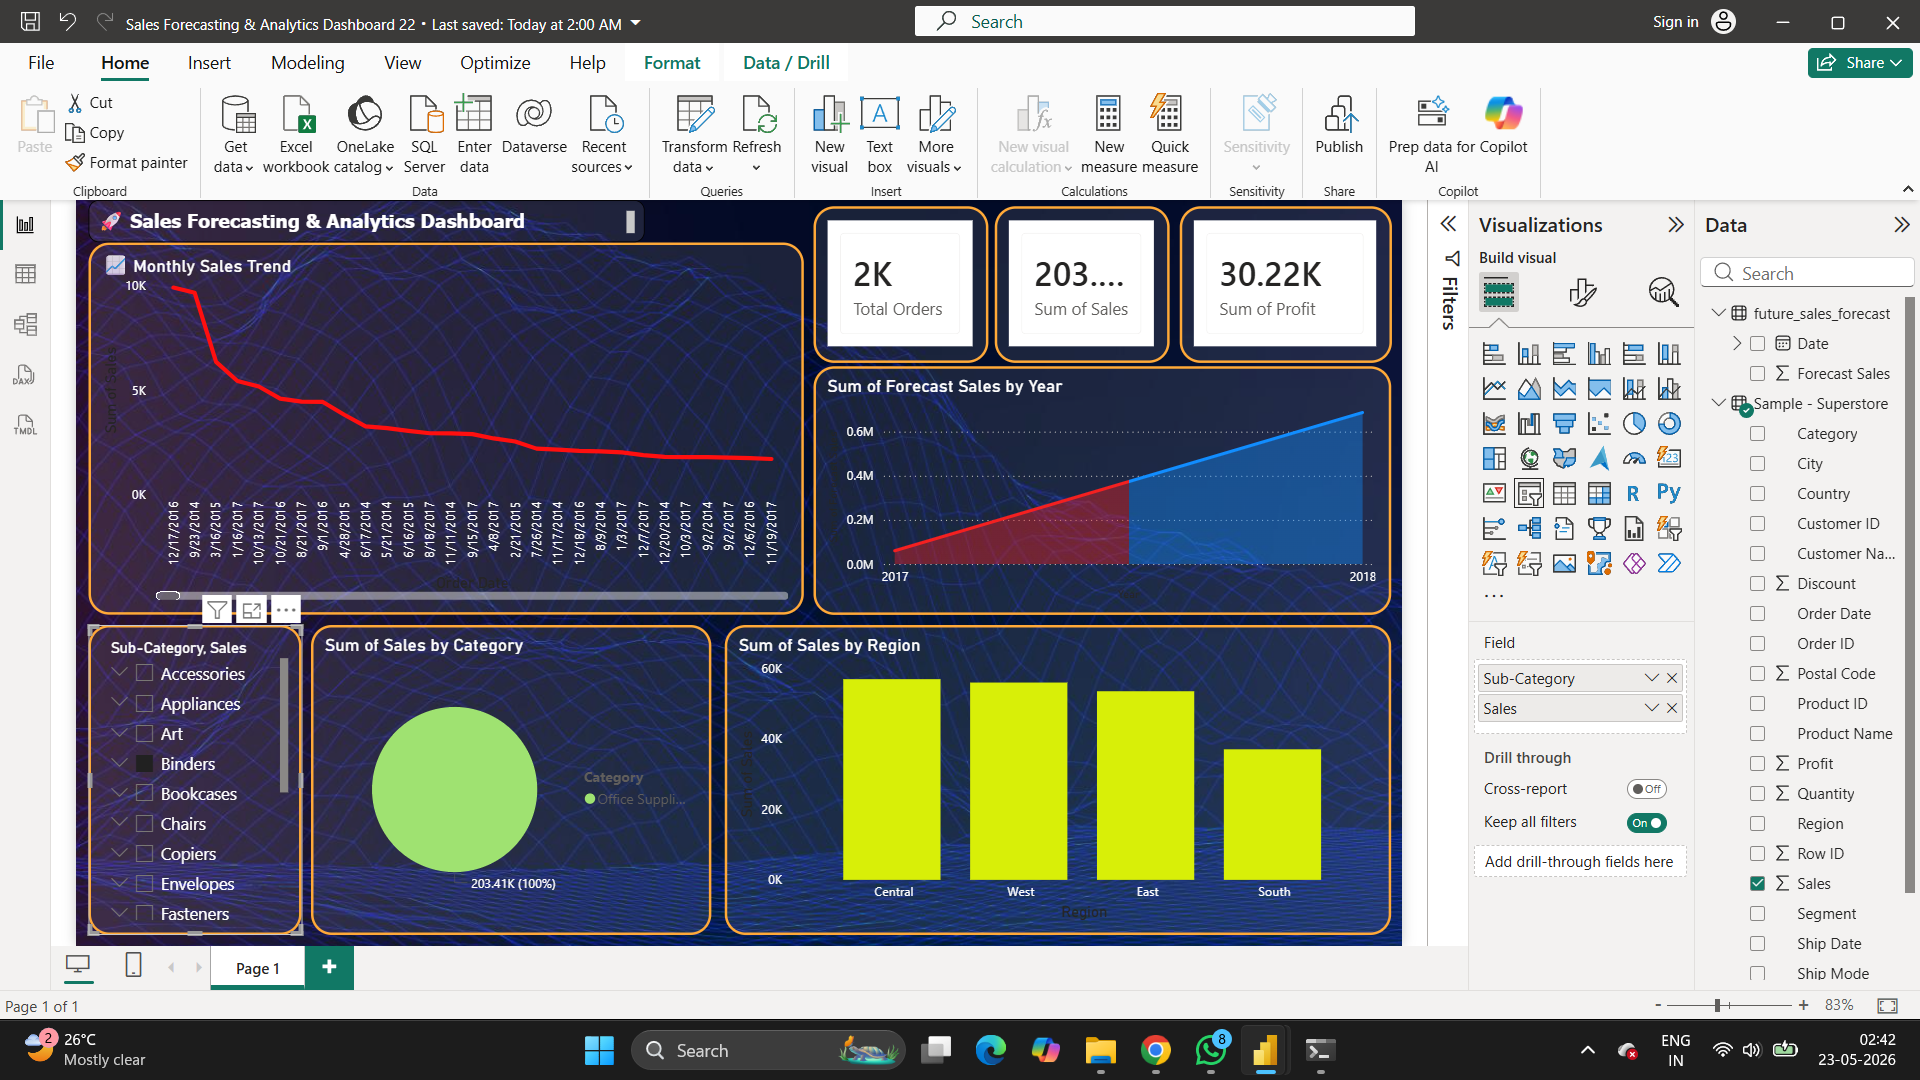

The dashboard page shown, as its layout file describes it:
{"tool":"powerbi","page":{"name":"Page 1","canvas":[1280,720],"ordinal":0},"visuals":[{"type":"cardVisual","fields":{"Data":["Sum(Sample - Superstore.Profit)"]},"box":[1064.8,5.5,204.5,150.9],"z":0},{"type":"cardVisual","fields":{"Data":["Sum(Sample - Superstore.Sales)"]},"box":[886.5,5.5,168.8,150.9],"z":1000},{"type":"cardVisual","fields":{"Data":["Sample - Superstore.Total Orders"]},"box":[712.2,5.5,168.8,150.9],"z":2000},{"type":"lineChart","title":"📈 Monthly Sales Trend","fields":{"Category":["Sample - Superstore.Order Date"],"Y":["Sum(Sample - Superstore.Sales)"]},"box":[12.1,41,690.1,359.5],"z":3000},{"type":"clusteredColumnChart","fields":{"Category":["Sample - Superstore.Region"],"Y":["Sum(Sample - Superstore.Sales)"]},"box":[626.1,410.2,643,299.2],"z":4000},{"type":"pieChart","fields":{"Category":["Sample - Superstore.Category"],"Y":["Sum(Sample - Superstore.Sales)"]},"box":[226.8,410.2,386.1,299.2],"z":5000},{"type":"slicer","fields":{"Values":["Sample - Superstore.Sub-Category","Sample - Superstore.Sales"]},"box":[12.3,410.3,205.8,299.1],"z":6000},{"type":"areaChart","fields":{"Category":["future_sales_forecast.Date.Variation.Date Hierarchy.Year","future_sales_forecast.Date.Variation.Date Hierarchy.Month","future_sales_forecast.Date.Variation.Date Hierarchy.Day"],"Y":["Sum(future_sales_forecast.Forecast Sales)"]},"box":[711.8,160.5,557.4,240.1],"z":7000},{"type":"textbox","box":[12.3,0,536.5,41.2],"z":8000}]}

Visuals, with their boxes on the page's 1280x720 design canvas (x1, y1, x2, y2). These are canvas units, not pixel positions in the 1920x1080 screenshot, which may show the page scaled, cropped or inside an application window:
cardVisual - Sum(Sample - Superstore.Profit): BBox(1065, 6, 1269, 156)
cardVisual - Sum(Sample - Superstore.Sales): BBox(886, 6, 1055, 156)
cardVisual - Sample - Superstore.Total Orders: BBox(712, 6, 881, 156)
"📈 Monthly Sales Trend" lineChart: BBox(12, 41, 702, 400)
clusteredColumnChart - Sample - Superstore.Region x Sum(Sample - Superstore.Sales): BBox(626, 410, 1269, 709)
pieChart - Sample - Superstore.Category x Sum(Sample - Superstore.Sales): BBox(227, 410, 613, 709)
slicer - Sample - Superstore.Sub-Category x Sample - Superstore.Sales: BBox(12, 410, 218, 709)
areaChart - future_sales_forecast.Date.Variation.Date Hierarchy.Year x future_sales_forecast.Date.Variation.Date Hierarchy.Month: BBox(712, 160, 1269, 401)
textbox: BBox(12, 0, 549, 41)
